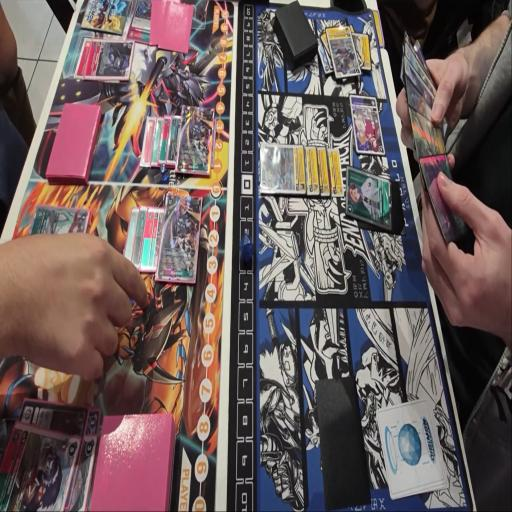card: (0, 421, 82, 512), (156, 198, 204, 283), (60, 430, 98, 512), (345, 170, 392, 234), (30, 197, 90, 245), (177, 101, 214, 175), (260, 144, 306, 198), (19, 399, 91, 431), (85, 37, 136, 81), (348, 92, 383, 154), (326, 26, 362, 80), (141, 203, 167, 275), (129, 204, 150, 275), (128, 0, 155, 41), (302, 146, 322, 198), (140, 117, 157, 170), (328, 146, 344, 200), (124, 205, 138, 265), (352, 30, 372, 71), (74, 35, 91, 81), (150, 117, 164, 169), (318, 145, 332, 197), (168, 118, 182, 168), (159, 116, 171, 166), (84, 408, 103, 437)
